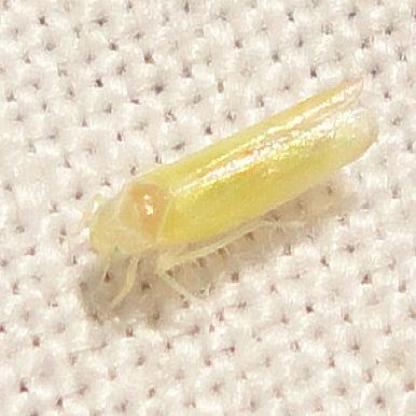green-leafhopper: (94, 81, 370, 307)
